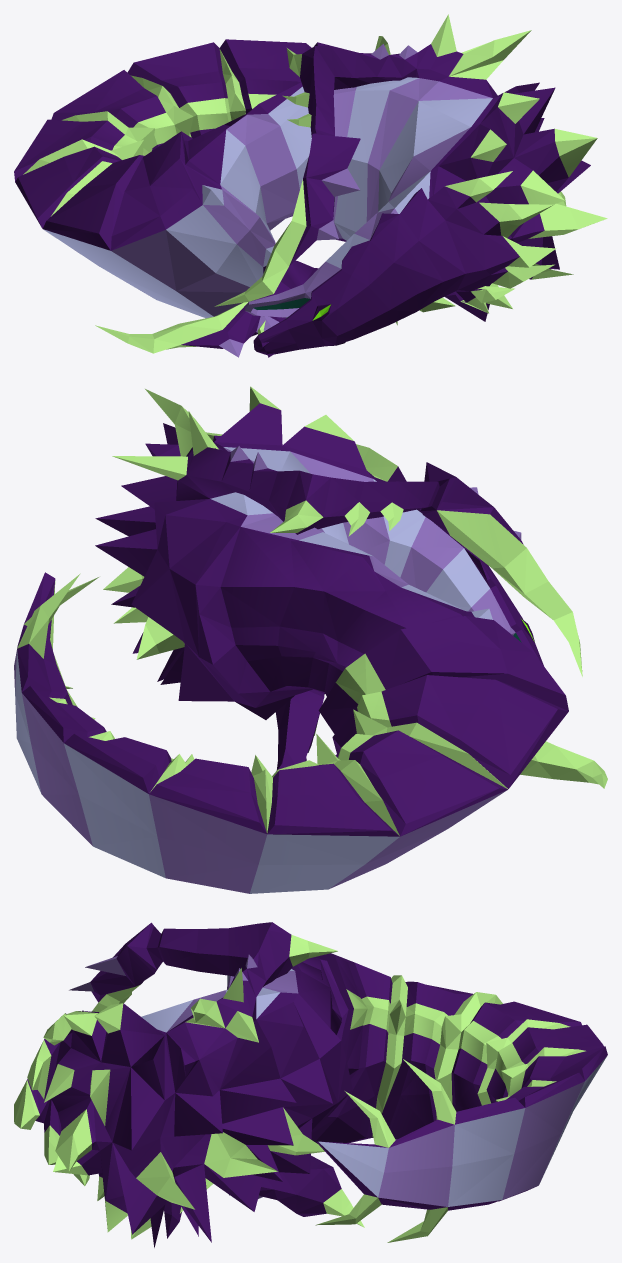
File: Dead (39).obj
3 views of the same model, one above another, from view 1: azimuth 30°, elevation 25°; view 2: azimuth 150°, elevation 25°; view 3: azimuth 270°, elevation 25° (orthographic). The views are drawn at different scales.
Visible parts, largest first — view 1: Alien_Serpent; view 2: Alien_Serpent; view 3: Alien_Serpent.
Boxes of the visible parts, x1=… form: Alien_Serpent: x1=14, y1=14, x2=607, y2=357; Alien_Serpent: x1=14, y1=386, x2=607, y2=893; Alien_Serpent: x1=14, y1=922, x2=607, y2=1247.
Size of the model in its own units: 220 by 142 by 246.
